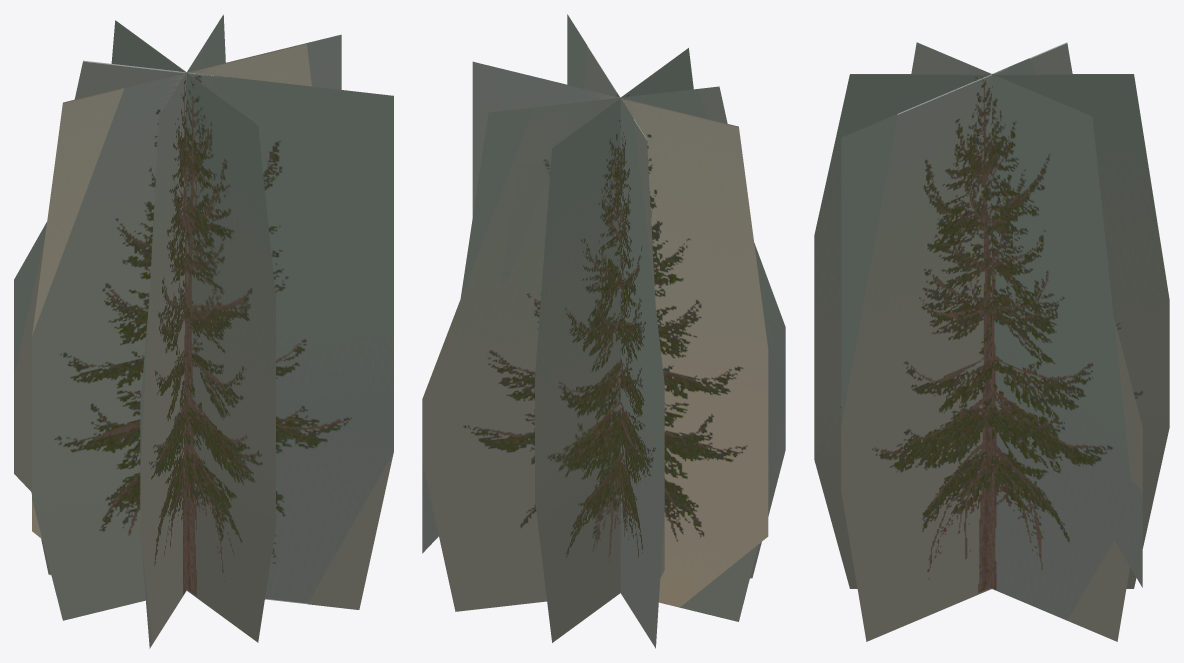
The model's file is forest_Tree_LOD1.fbx.
3 views of the same model, side by side, from view 1: azimuth 30°, elevation 25°; view 2: azimuth 150°, elevation 25°; view 3: azimuth 270°, elevation 25° (orthographic). The views are drawn at different scales.
Parts seen in each view (by area): view 1: StaticMeshActor_16_StaticMeshComponent0; view 2: StaticMeshActor_16_StaticMeshComponent0; view 3: StaticMeshActor_16_StaticMeshComponent0.
Boxes of the visible parts, box(x1,y1,x2,y2) form: StaticMeshActor_16_StaticMeshComponent0: box(14, 14, 393, 648); StaticMeshActor_16_StaticMeshComponent0: box(422, 14, 785, 648); StaticMeshActor_16_StaticMeshComponent0: box(814, 42, 1169, 641).
Bounding box in the file's own units: 18.23 × 29.16 × 18.23.
